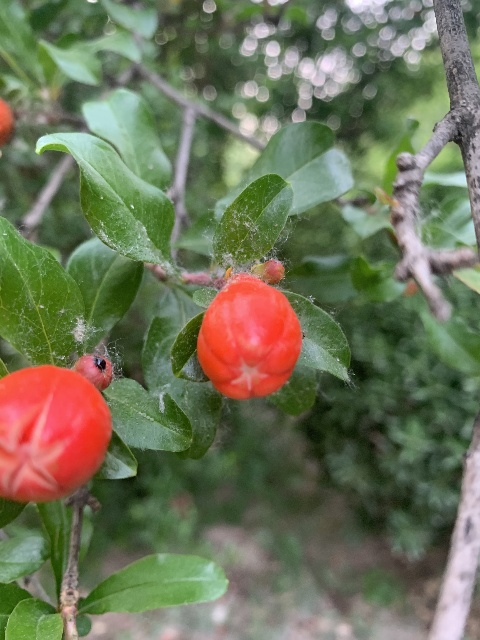bud: (0, 364, 112, 504), (196, 276, 302, 400), (73, 353, 112, 390)
